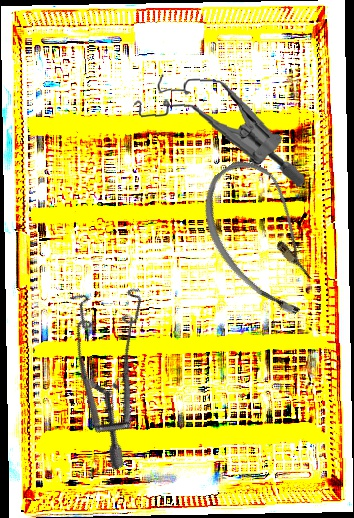Cannula: (180, 147, 348, 330)
Speculum: (25, 264, 214, 472), (128, 70, 311, 189)
